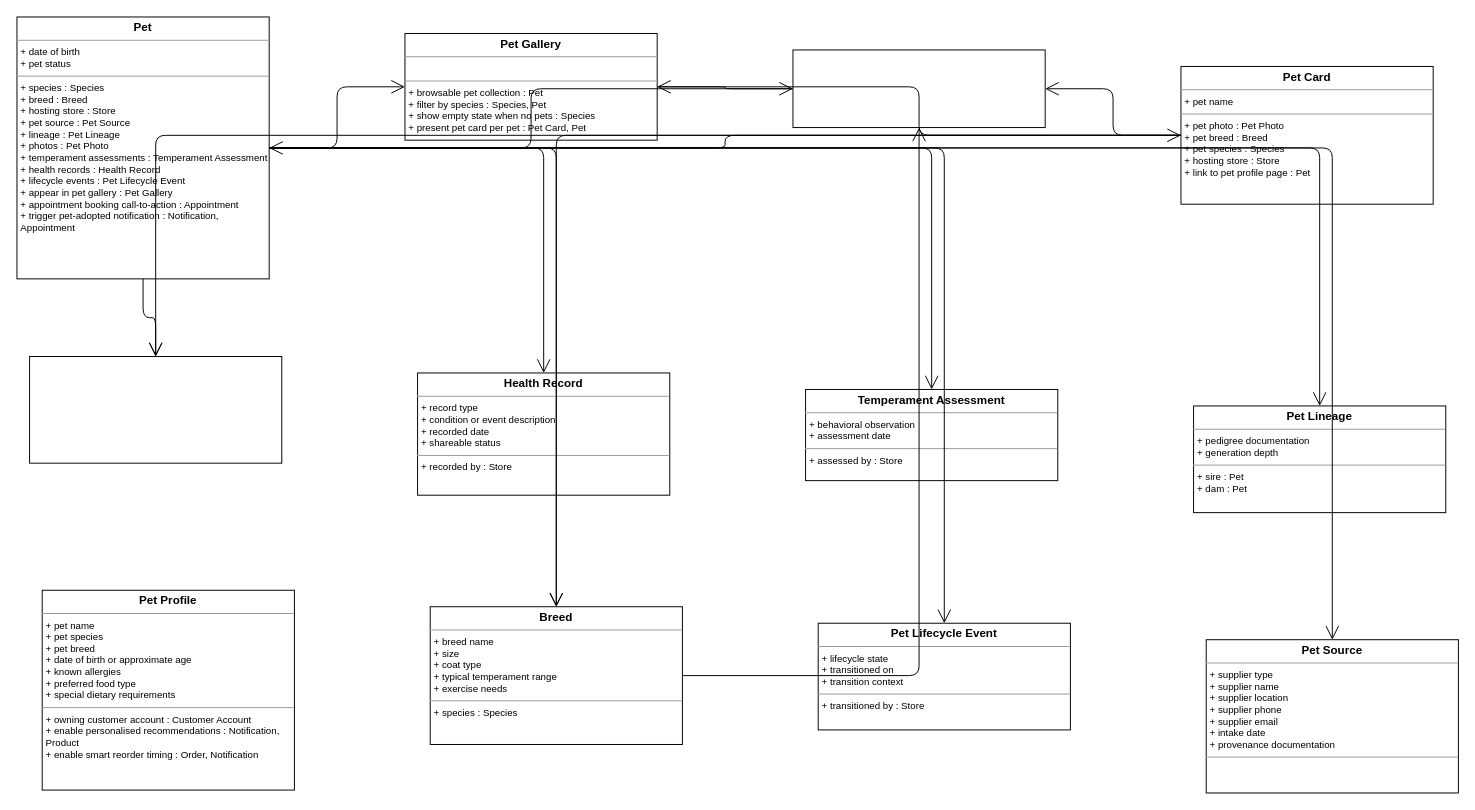
Some shapes in this 1475 by 810 pixel diagram are drawn without their labels. The shapes that lost their labels are listed below. From the top down, each one's box as (x1, y1, x2, y2) in pixels, then its label:
(792, 49, 1045, 128): Species + species name + group pets in gallery : Pet Gallery, Pet
(29, 356, 282, 463): Pet Photo + image file + caption + upload date + uploaded by : Store
